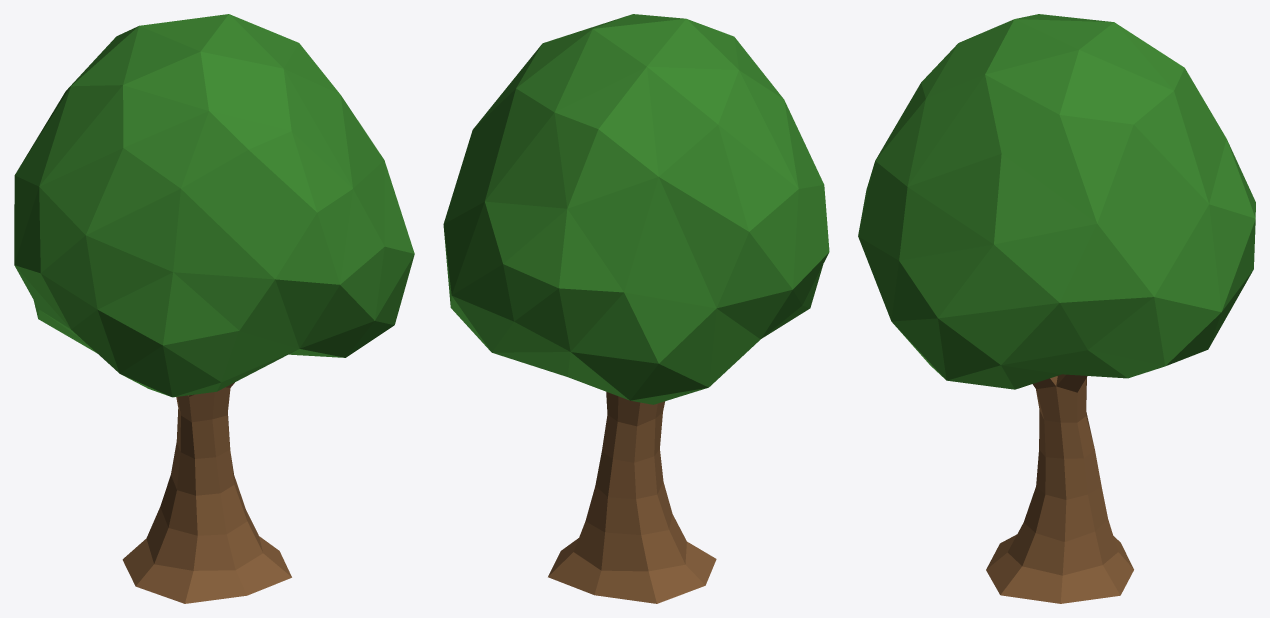
File: tree4.glb
3 renders of one model, left to right at view 1: azimuth 30°, elevation 25°; view 2: azimuth 150°, elevation 25°; view 3: azimuth 270°, elevation 25°, orthographic.
Parts seen in each view (by area): view 1: LowPoly Tree 01; view 2: LowPoly Tree 01; view 3: LowPoly Tree 01.
Boxes of the visible parts, x1,y1,x2,y2 form: LowPoly Tree 01: (14, 14, 414, 603); LowPoly Tree 01: (443, 14, 829, 603); LowPoly Tree 01: (858, 14, 1255, 603).
Size of the model in its own units: 1.35 by 2 by 1.34.
